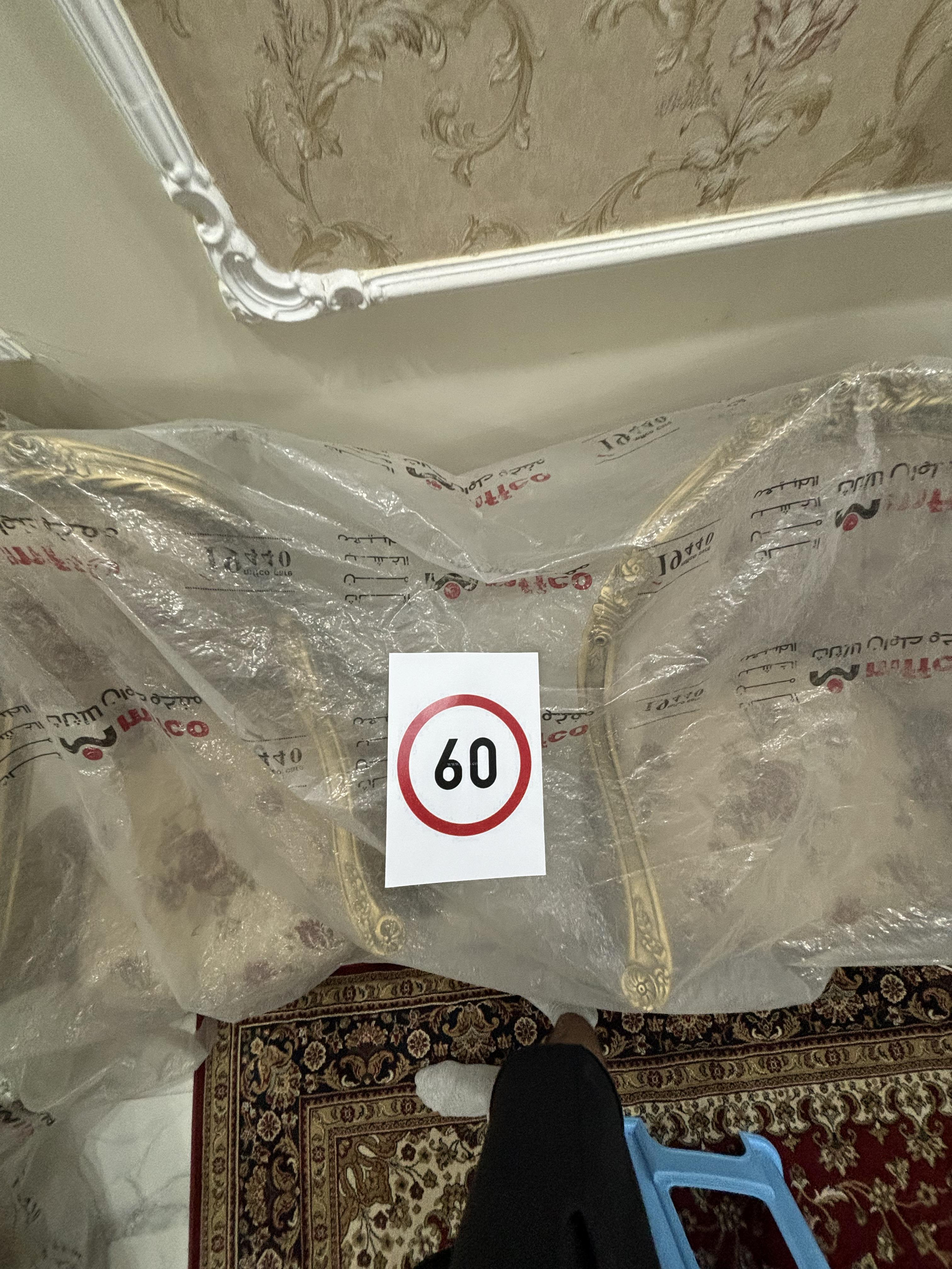60-Speed: (397, 696, 541, 838)
